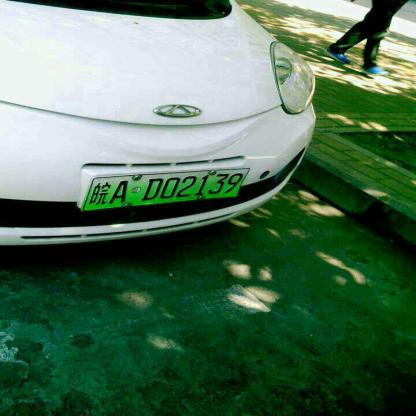lp: (80, 168, 247, 211)
